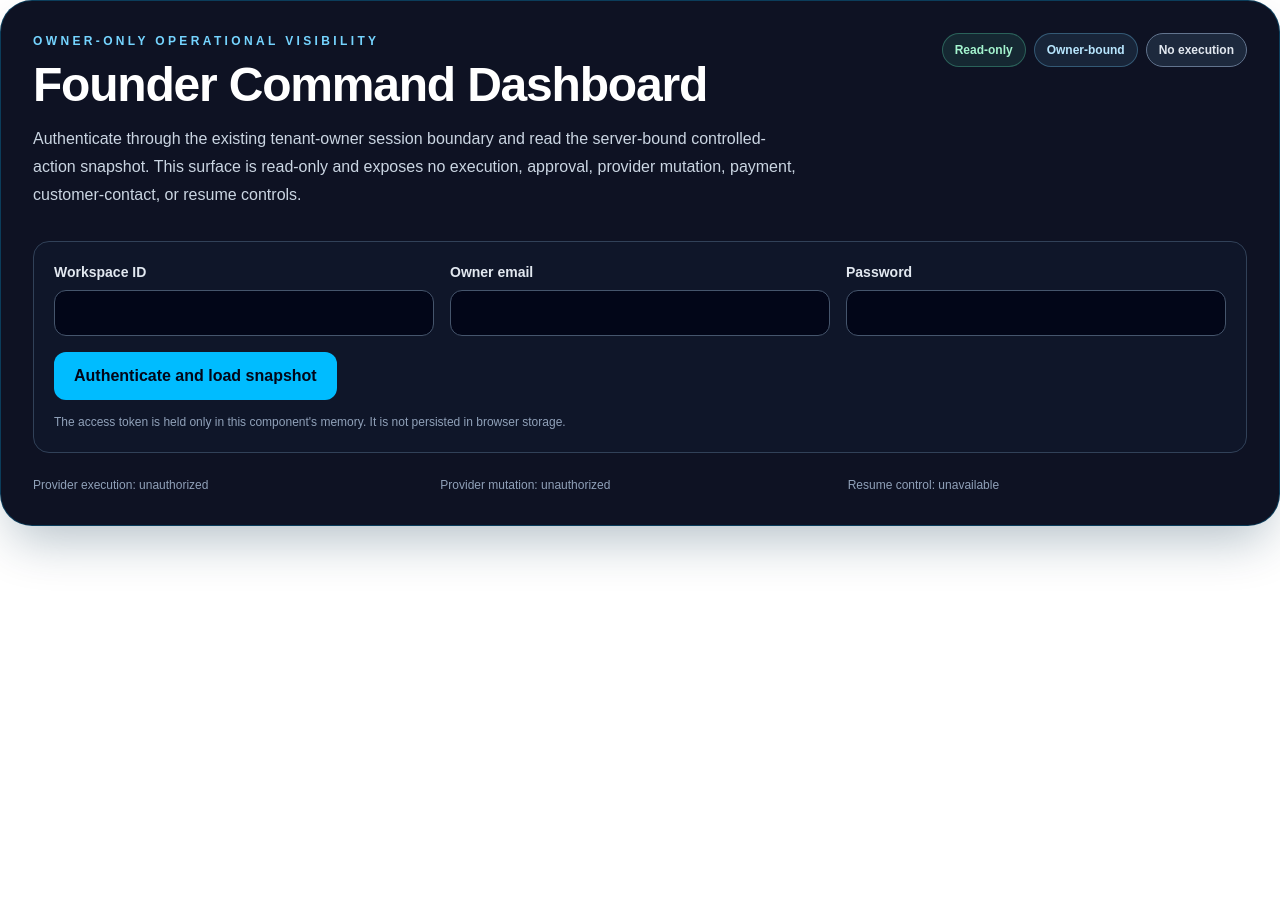
NexusFounderCommandDashboard browser interaction › renders verified inquiry lifecycle status aggregates
Type "tenant-a" into the field labelled "Workspace ID" at (244, 313), box [54,290,434,336]
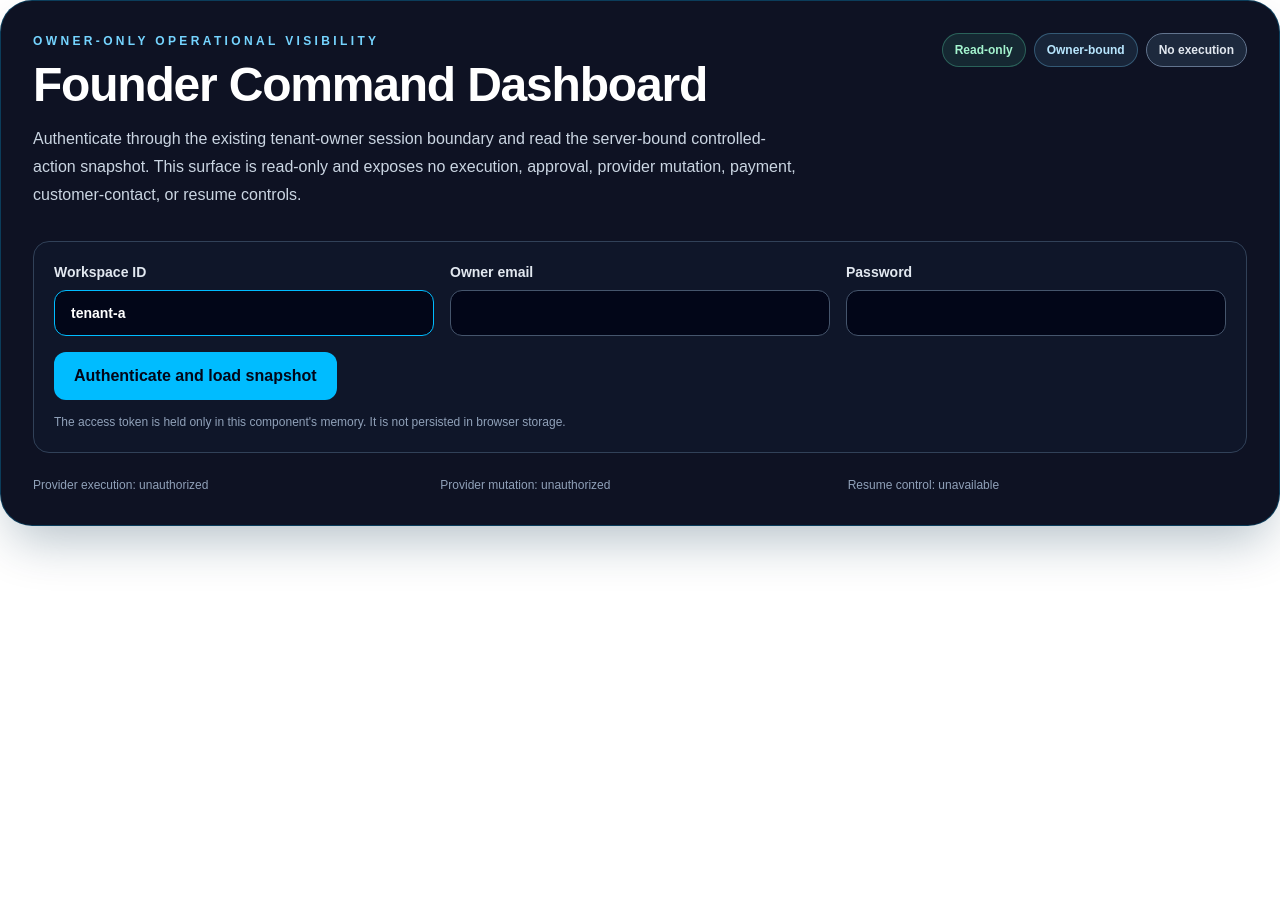
Type "owner@example.com" into the field labelled "Owner email" at (640, 313), box [450,290,830,336]
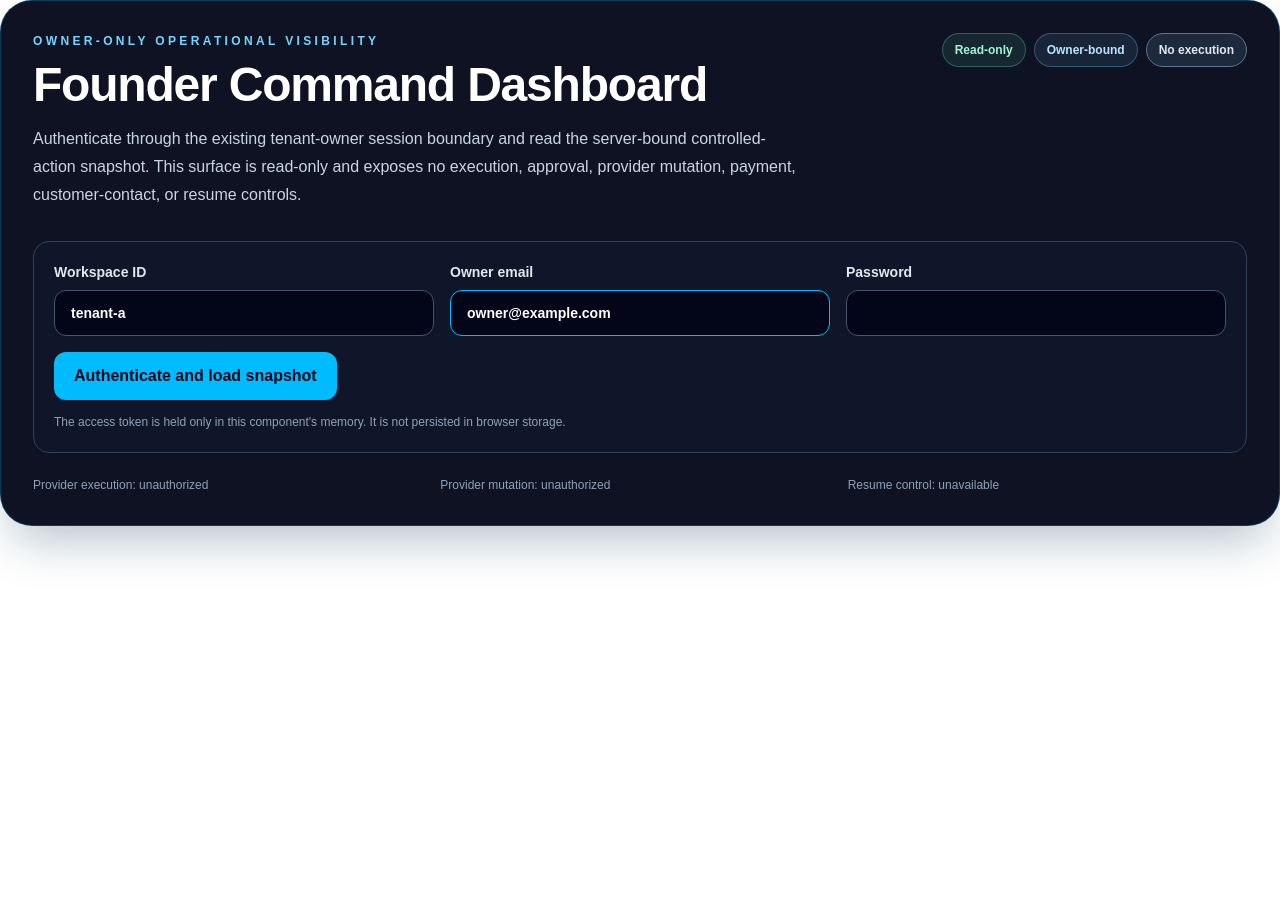
Type "secret-password" into the password field labelled "Password" at (1036, 313), box [846,290,1226,336]
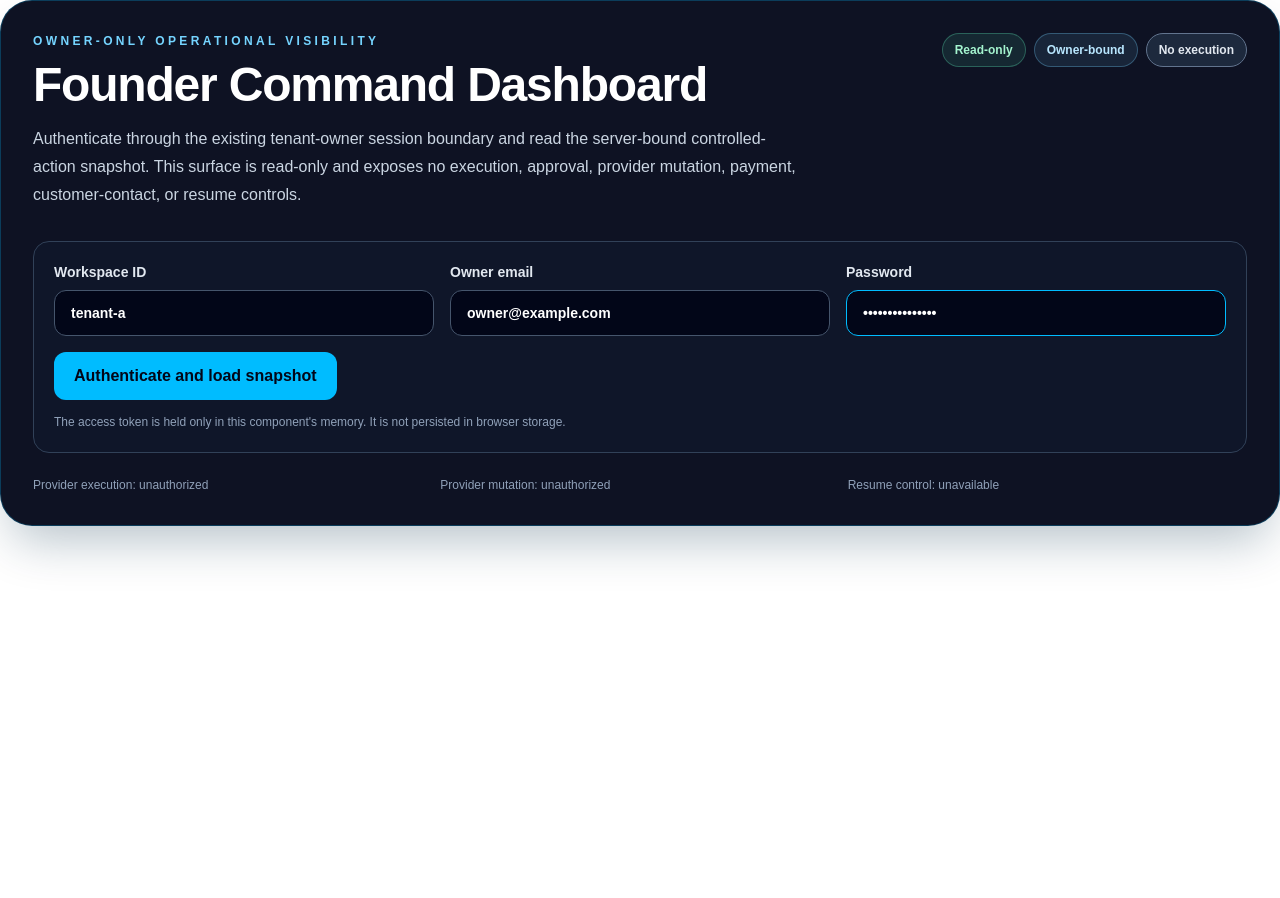
Click the button "Authenticate and load snapshot" at (195, 376), box [54,352,337,400]
(page scrolled)
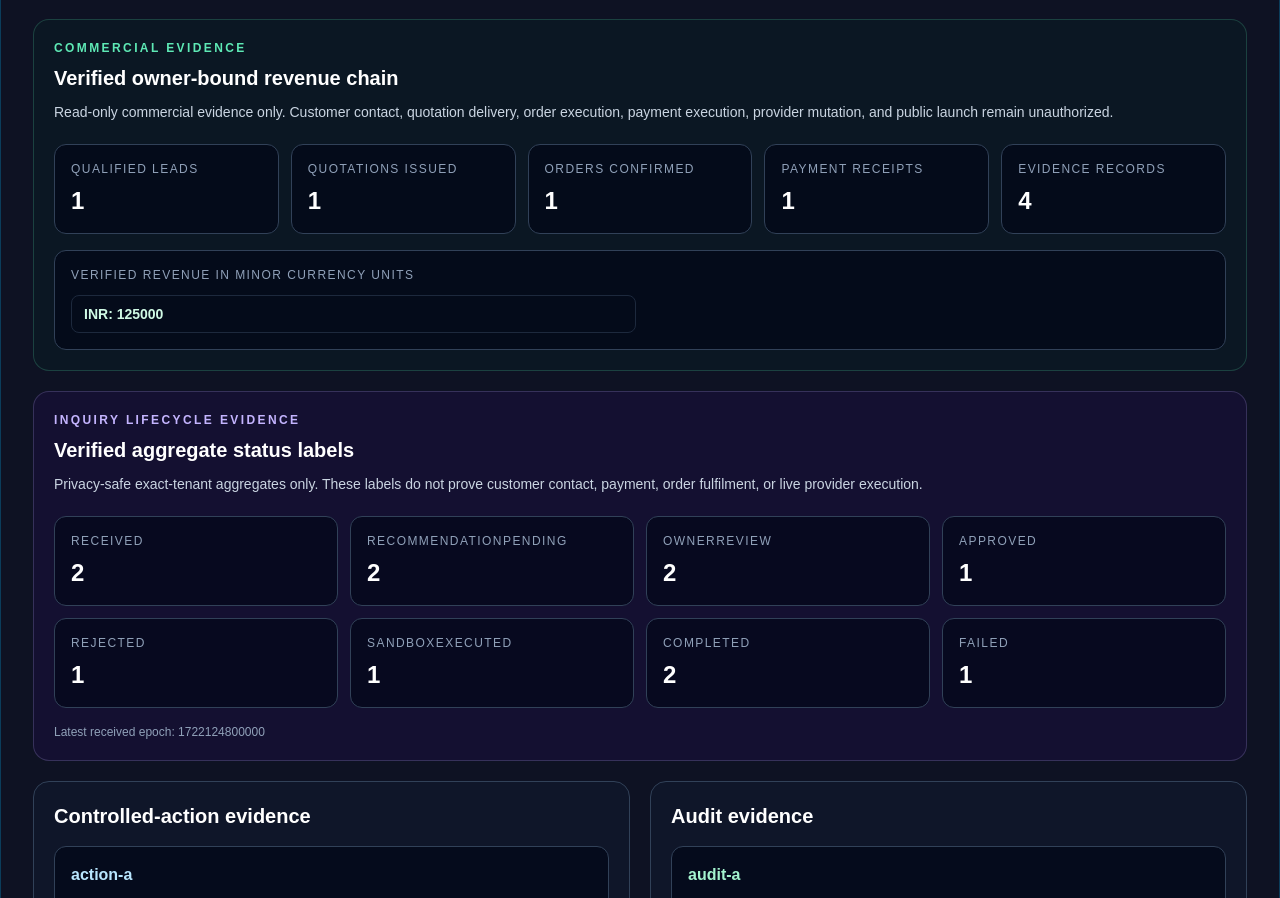
Now the text named "Inquiry status ownerReview" reads "2", box [663,559,676,586]
Now the heading "Verified aggregate status labels" is shown, box [54,439,354,461]
